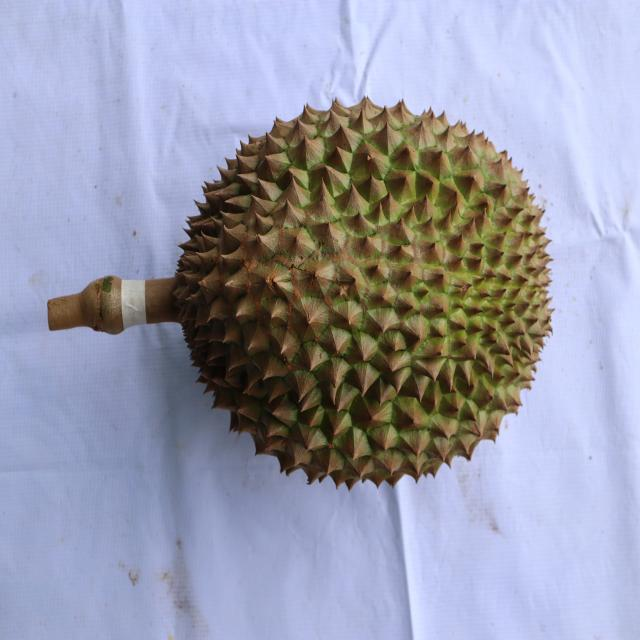mature: (170, 97, 555, 498)
